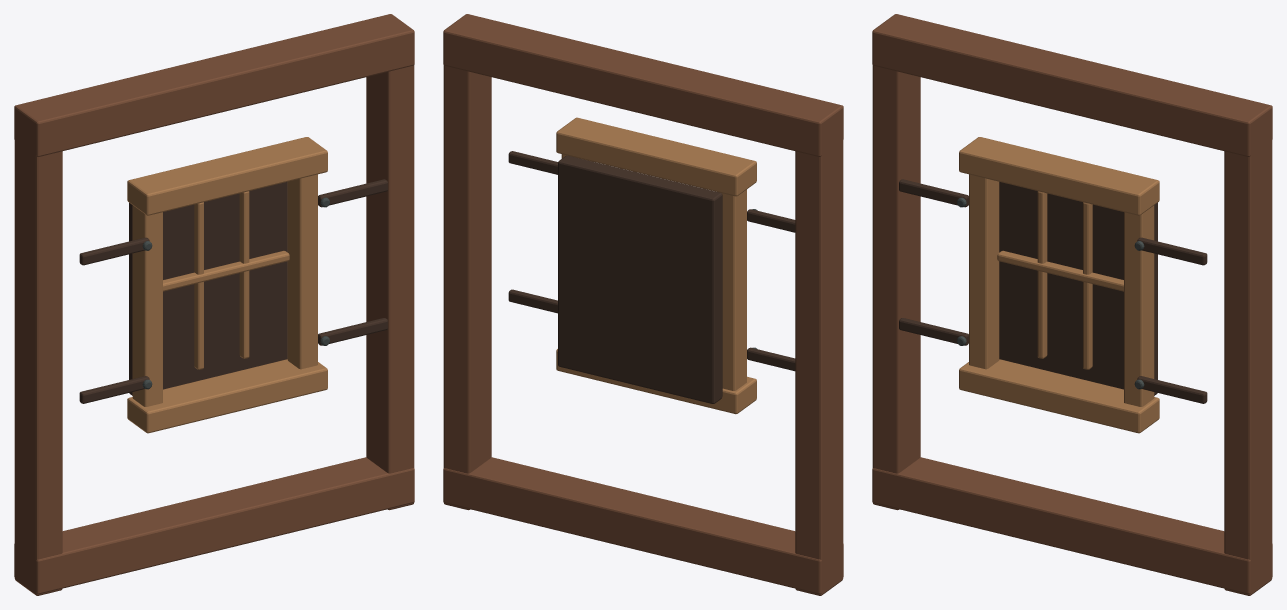
Rendered from wall_window_2m__structure.glb.
3 renders of one model, left to right at view 1: azimuth 30°, elevation 25°; view 2: azimuth 150°, elevation 25°; view 3: azimuth 330°, elevation 25°, orthographic.
Visible parts, largest first — view 1: wall_window_2m__structure__mesh_00; view 2: wall_window_2m__structure__mesh_00; view 3: wall_window_2m__structure__mesh_00.
Boxes of the visible parts, left/top/right/bottom form: wall_window_2m__structure__mesh_00: left=14, top=14, right=414, bottom=595; wall_window_2m__structure__mesh_00: left=443, top=14, right=843, bottom=595; wall_window_2m__structure__mesh_00: left=872, top=14, right=1272, bottom=595.
Bounding box in the file's own units: 2 × 2.4 × 0.325.
